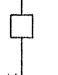Cable Termination Box: (6, 9, 39, 43)
